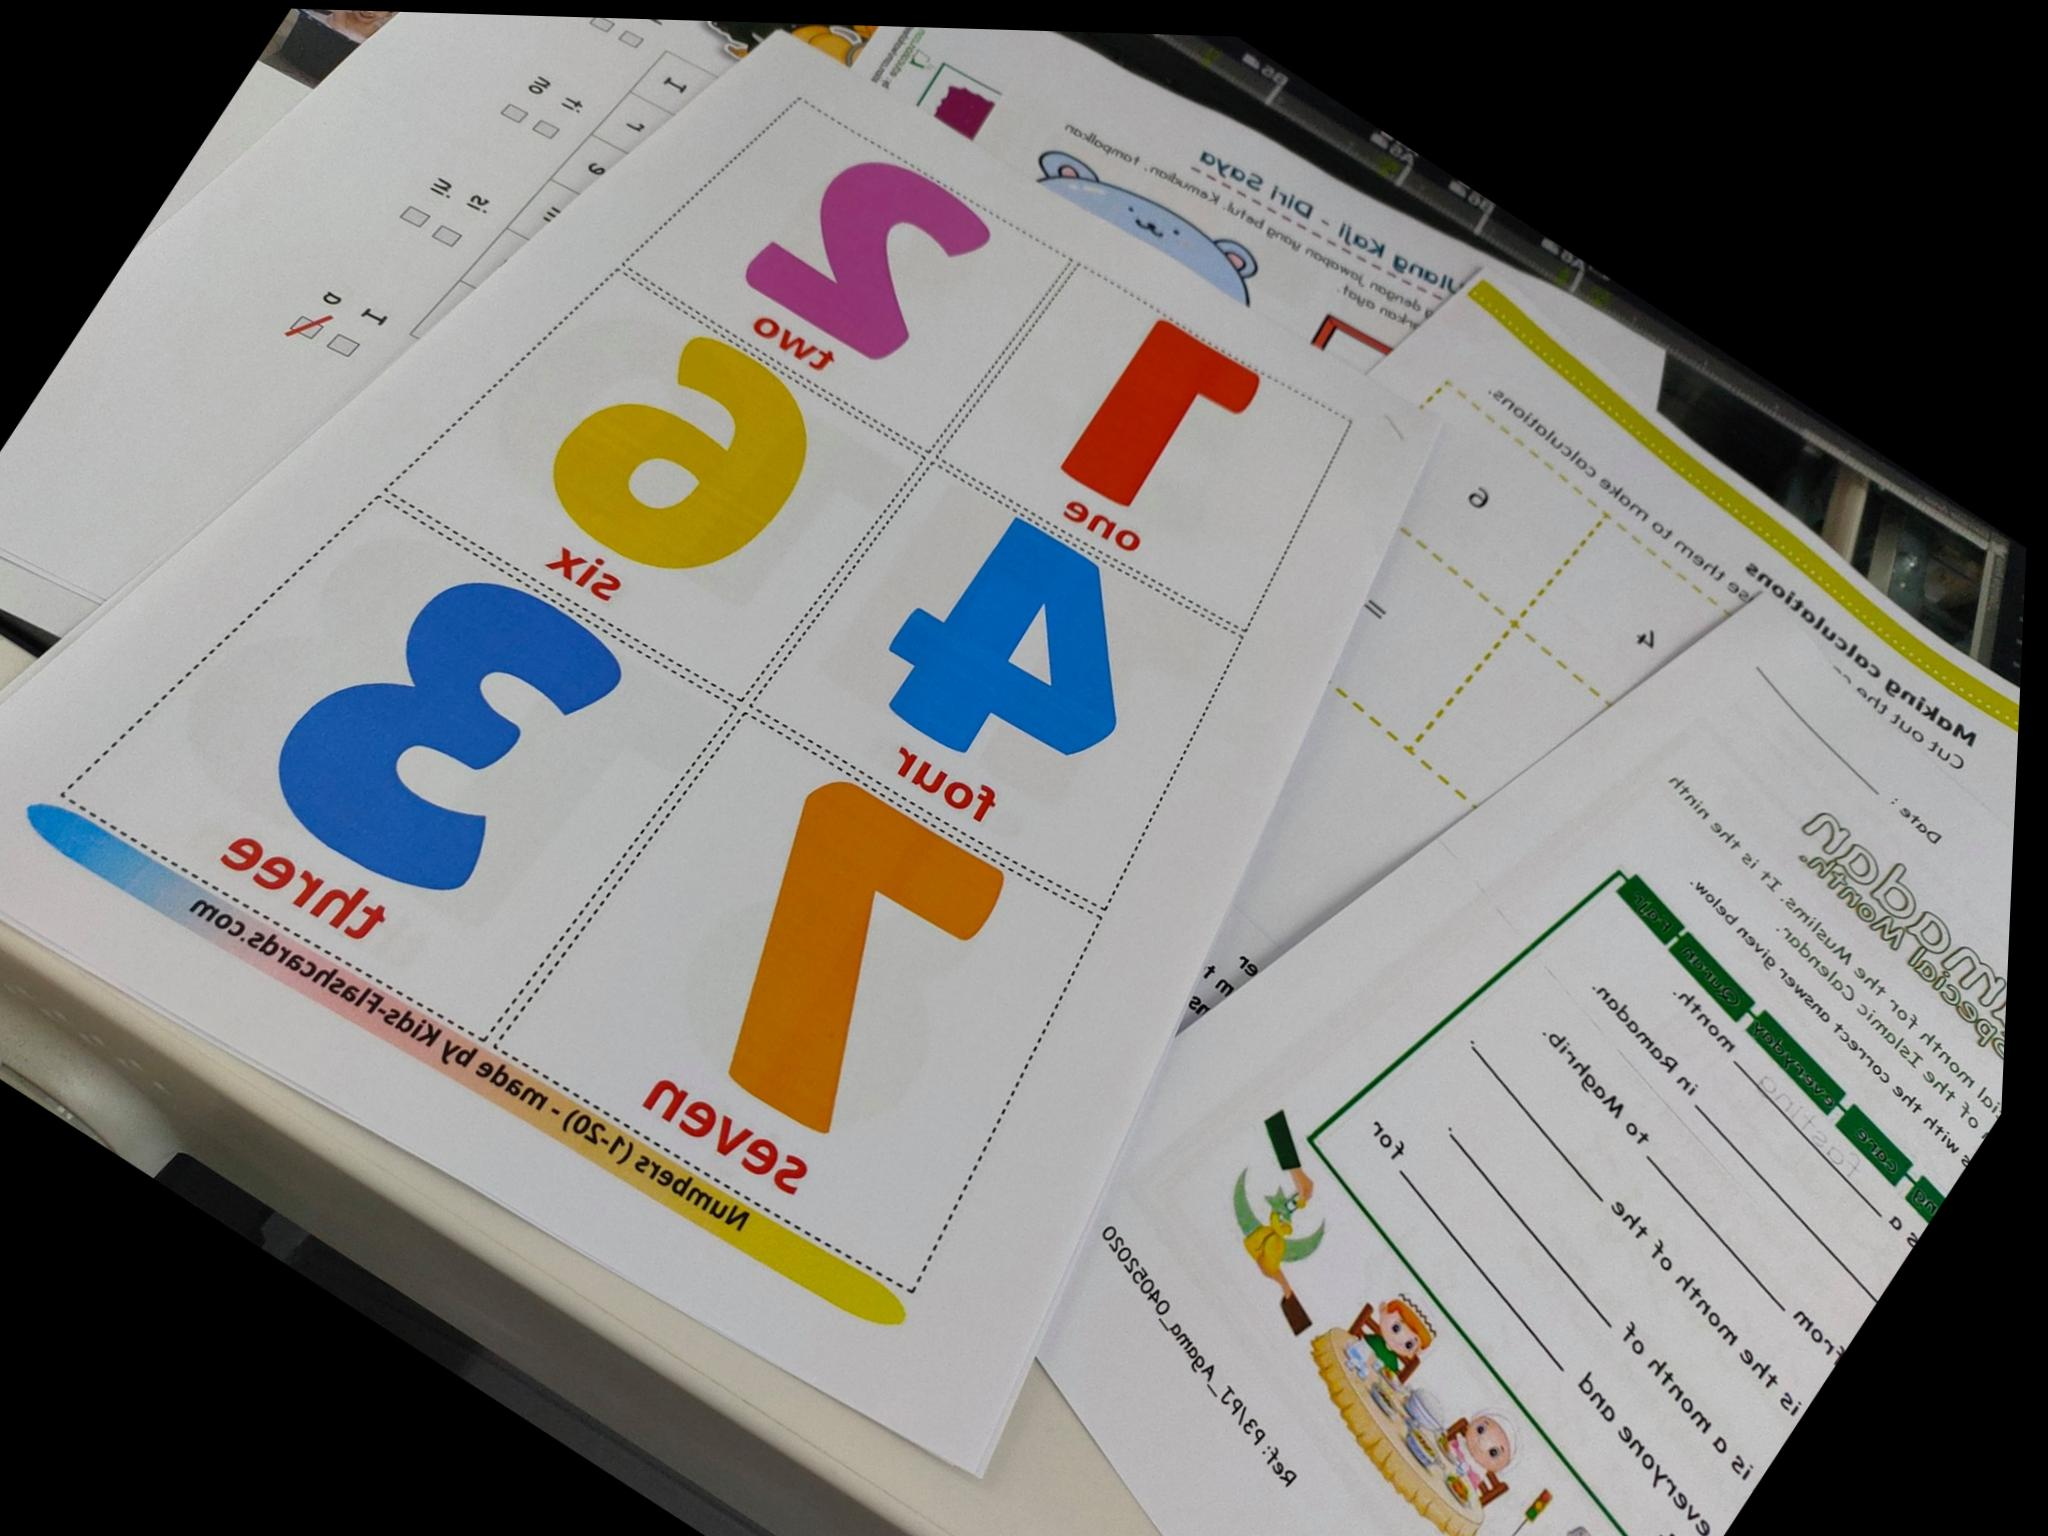paper: (0, 6, 1455, 1534), (1043, 274, 2016, 1534)
